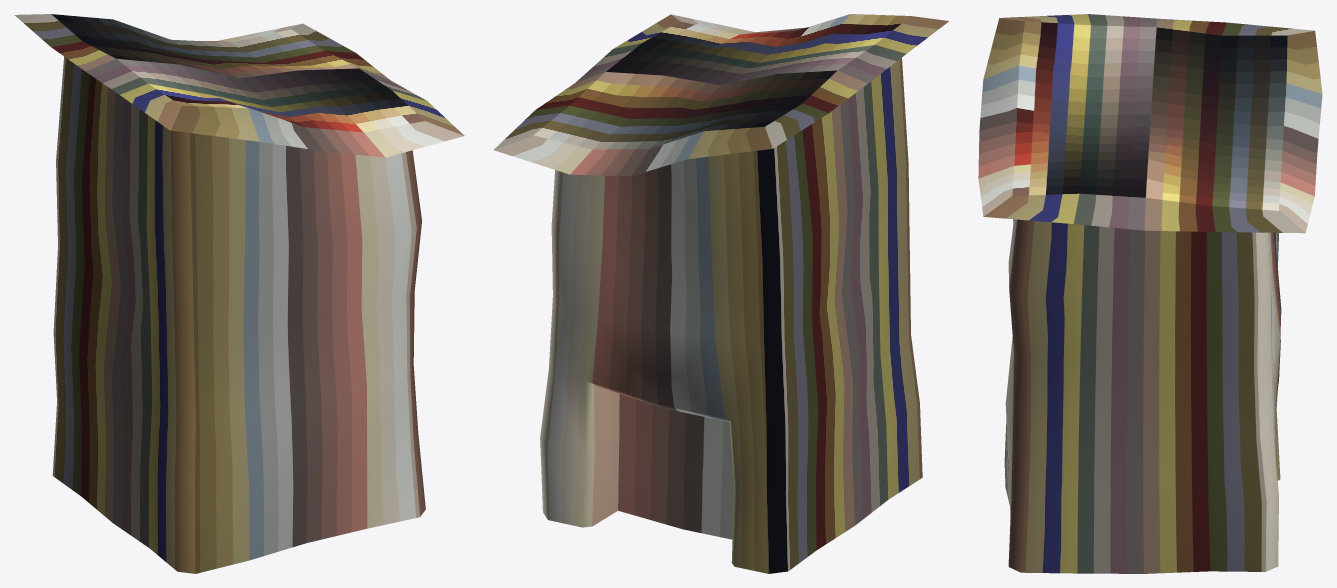
Rendered from MSH_Building_Hole_005.glb.
The picture shows the model from 3 angles, left to right: view 1: azimuth 30°, elevation 25°; view 2: azimuth 150°, elevation 25°; view 3: azimuth 270°, elevation 25°; orthographic projection. The views are drawn at different scales.
Visible parts, largest first — view 1: Base.018; view 2: Base.018; view 3: Base.018.
Part boxes in pixels (left/top/right/bottom): Base.018: left=14, top=14, right=464, bottom=573; Base.018: left=493, top=14, right=949, bottom=573; Base.018: left=978, top=14, right=1322, bottom=573.
Bounding box in the file's own units: 6.27 × 9.11 × 6.47.
1 material, 1 textured.
